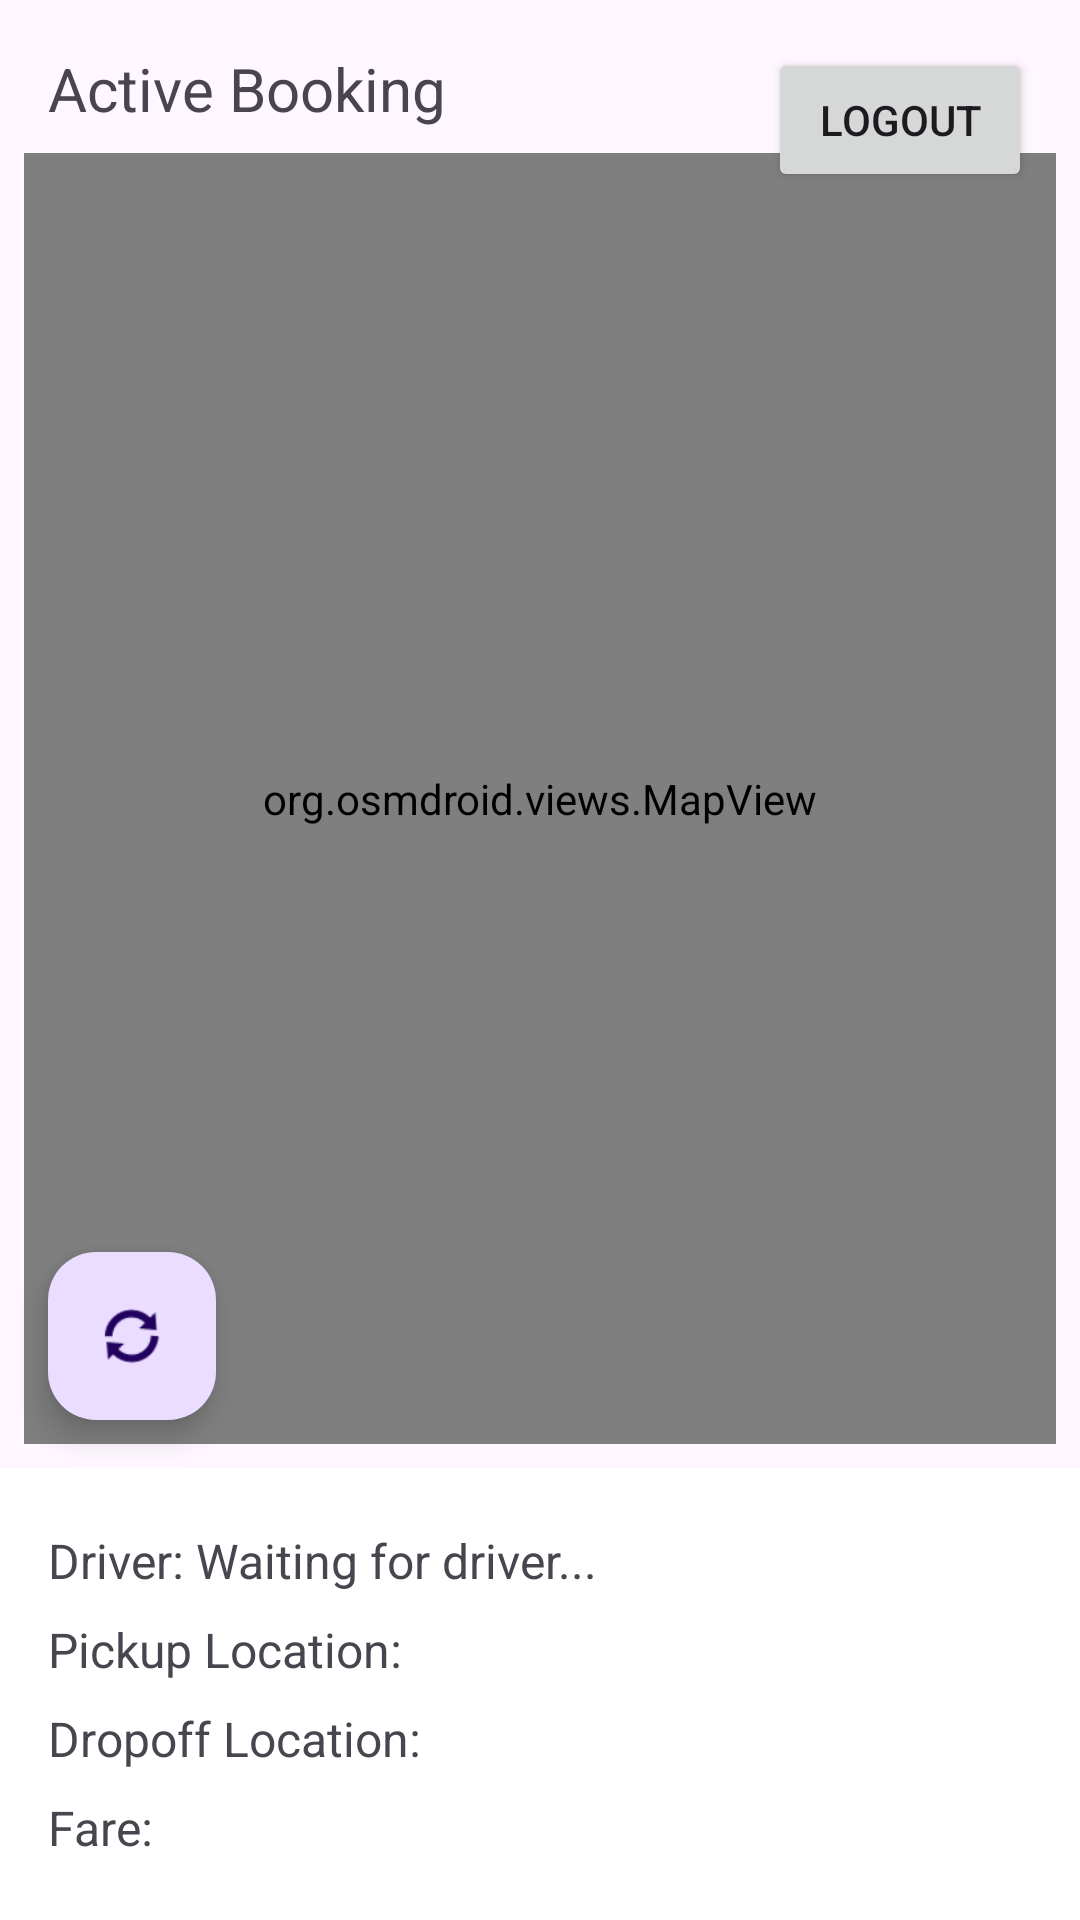

Icon click points for this 1080px x 1920px phone screenshot, format (x,y):
Refresh booking status: (132,1336)
